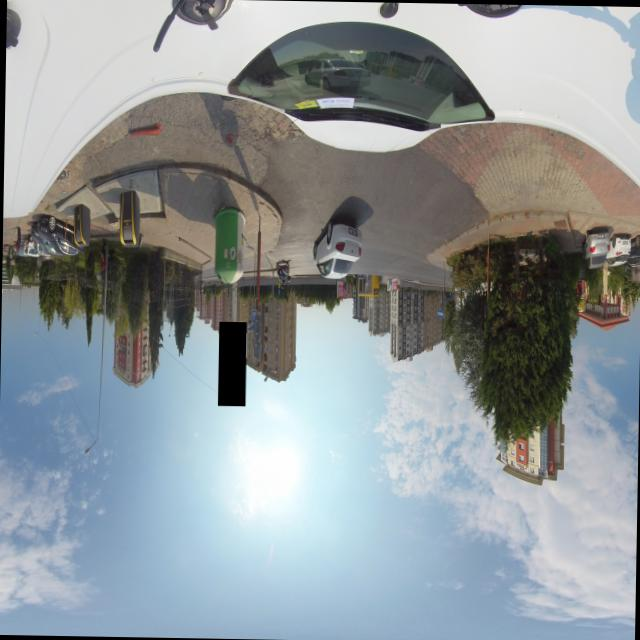SignStore: (217, 320, 245, 404)
